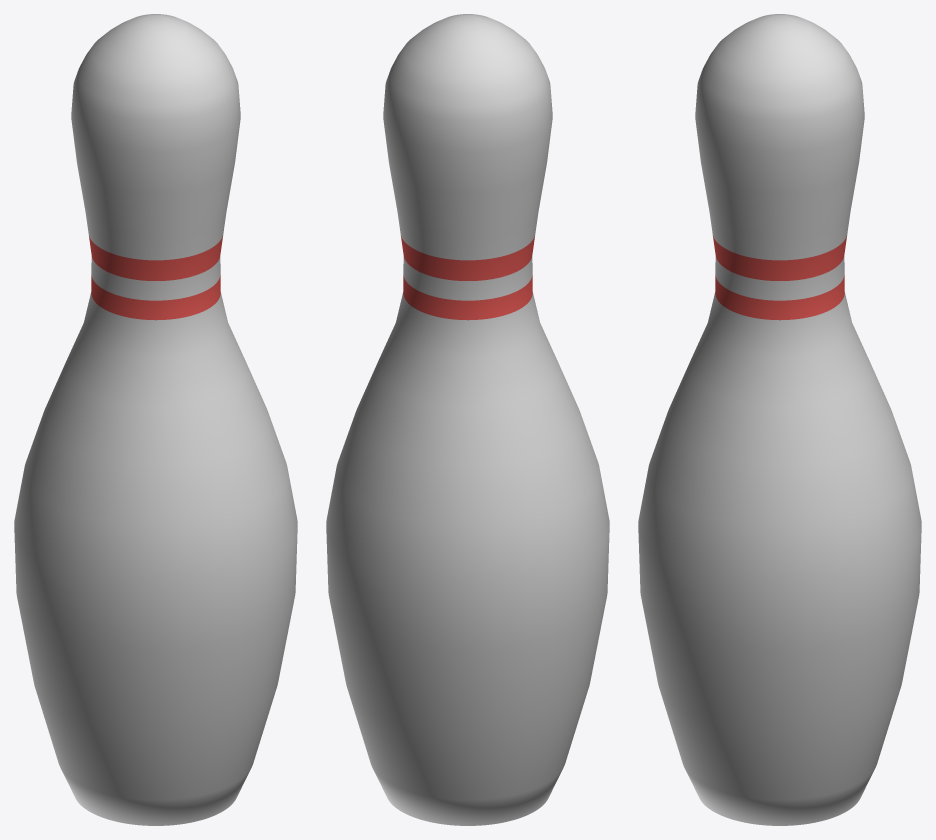
The model's file is bowling_pin.glb.
The picture shows the model from 3 angles, left to right: view 1: azimuth 30°, elevation 25°; view 2: azimuth 150°, elevation 25°; view 3: azimuth 270°, elevation 25°; orthographic projection.
Parts seen in each view (by area): view 1: Cylinder_2; view 2: Cylinder_2; view 3: Cylinder_2.
Boxes of the visible parts, bbox=[...] form: Cylinder_2: bbox=[14, 14, 297, 825]; Cylinder_2: bbox=[326, 14, 609, 825]; Cylinder_2: bbox=[638, 14, 921, 825].
Size of the model in its own units: 1.36 by 4.08 by 1.36.
